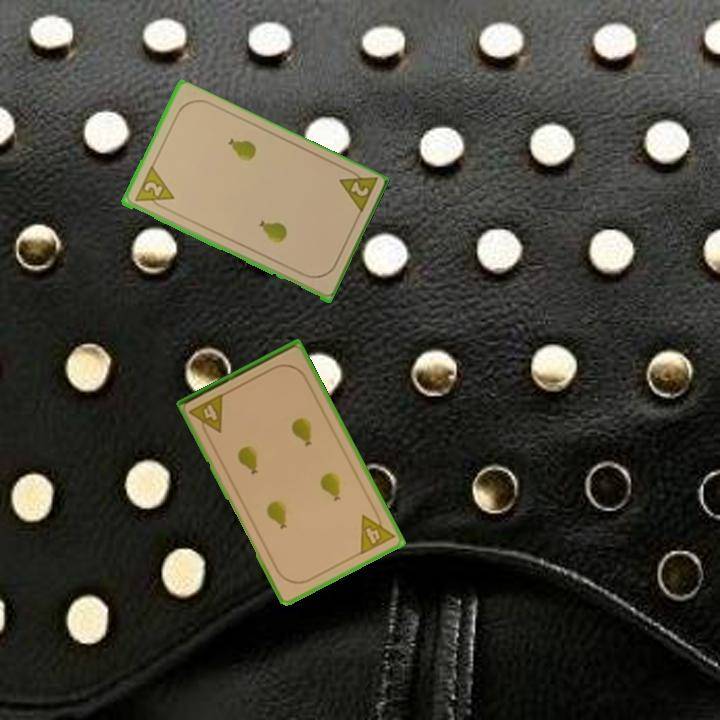2p: (335, 164, 380, 218), (131, 164, 177, 212)
4p: (356, 505, 398, 558), (186, 390, 227, 441)
